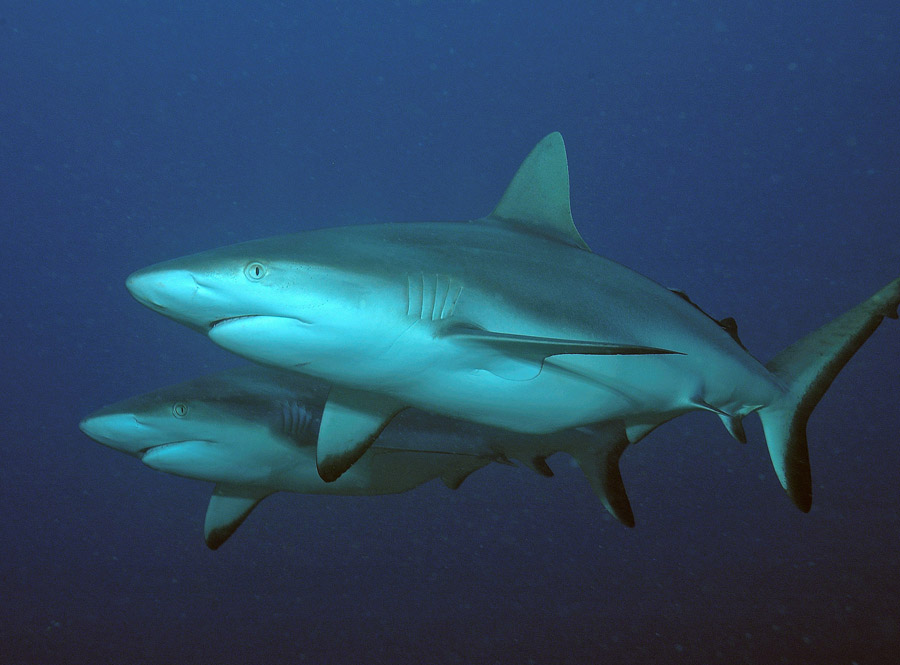Carcharhinus_amblyrhynchos: (51, 121, 899, 578)
